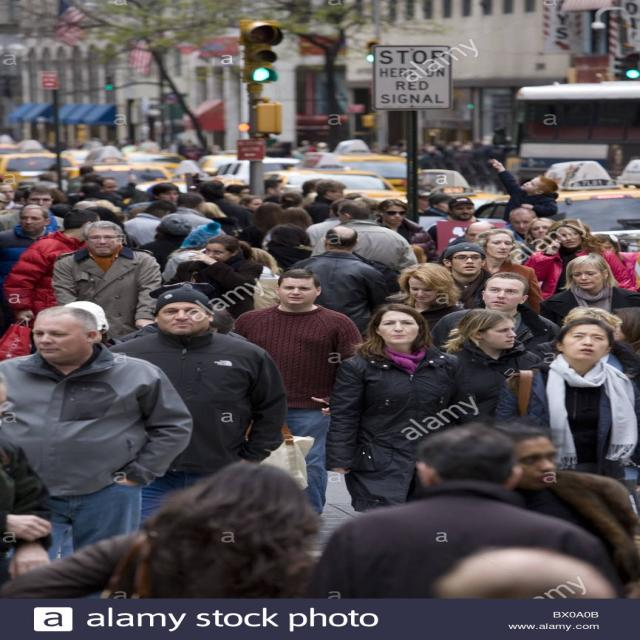body: (310, 423, 627, 600), (0, 305, 197, 566), (0, 463, 326, 599), (107, 286, 289, 529), (322, 300, 483, 516), (228, 267, 362, 516), (489, 420, 639, 599), (490, 317, 640, 488), (17, 133, 290, 224), (290, 119, 533, 196), (0, 207, 89, 363), (51, 219, 164, 341), (437, 307, 547, 430), (286, 225, 394, 342), (0, 374, 58, 590), (1, 207, 102, 330), (406, 543, 626, 599), (513, 304, 640, 389), (428, 271, 564, 349), (521, 217, 640, 300), (156, 235, 264, 321), (120, 281, 250, 346), (537, 251, 640, 329), (309, 200, 419, 271), (472, 228, 546, 316), (395, 261, 467, 333), (486, 158, 560, 226), (422, 196, 488, 264), (373, 198, 434, 264), (162, 222, 223, 284), (442, 241, 494, 310), (136, 215, 194, 274), (153, 192, 227, 235), (0, 185, 66, 233), (304, 198, 352, 258), (120, 200, 180, 248), (592, 233, 640, 290), (505, 217, 558, 267), (264, 224, 313, 272), (302, 178, 348, 224), (242, 244, 296, 283), (446, 220, 498, 247), (502, 207, 538, 246), (345, 189, 384, 219), (279, 205, 316, 231), (418, 192, 453, 217), (151, 182, 181, 208), (10, 184, 35, 205)
